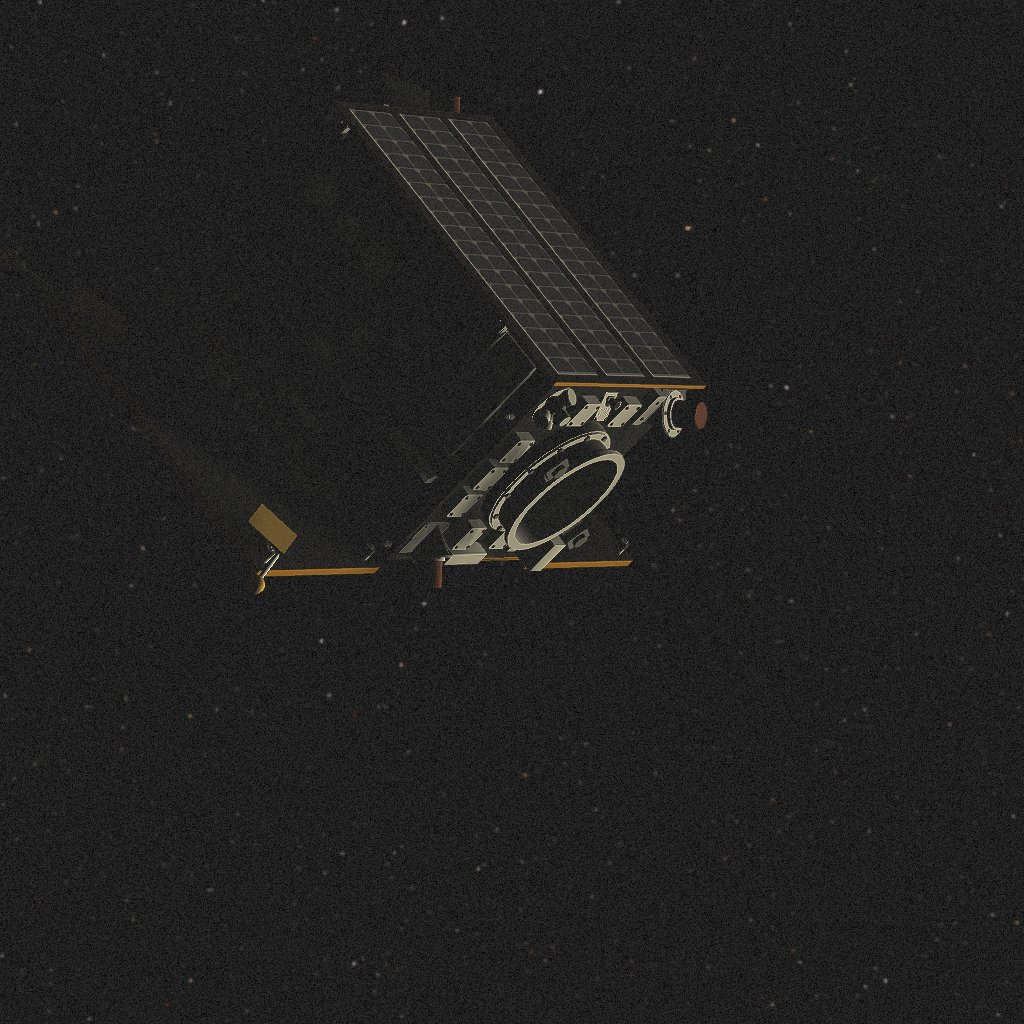proba_2: (0, 70, 707, 594)
